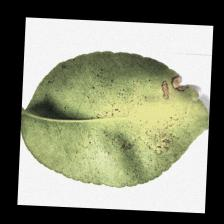canker: (101, 60, 203, 148)
